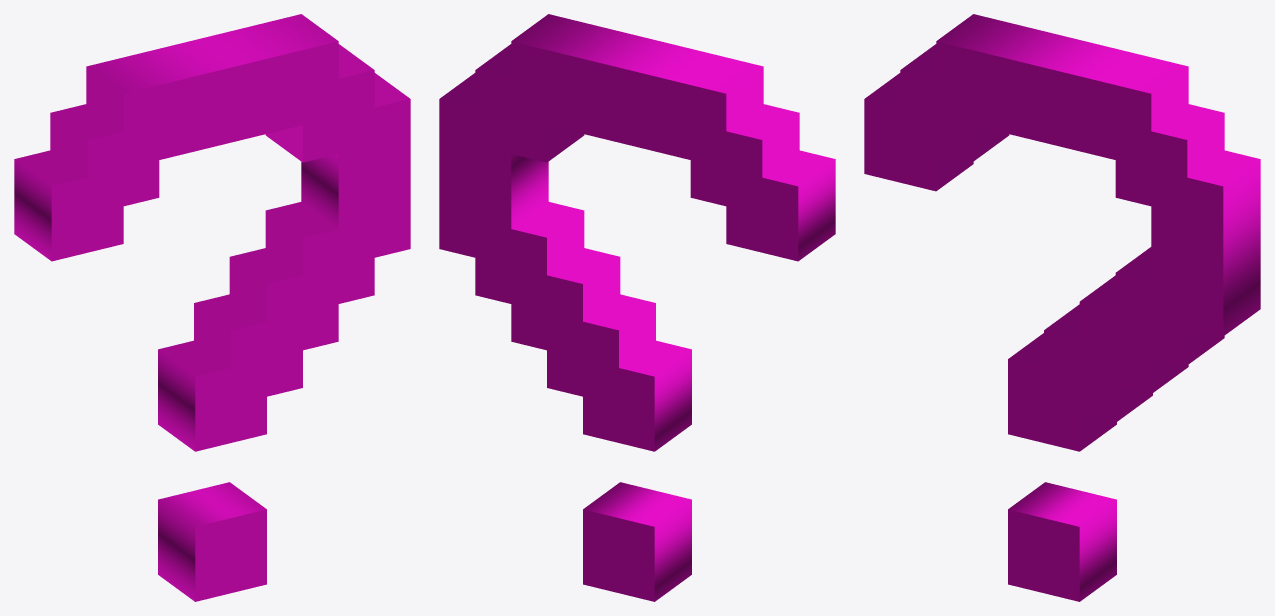
Rendered from random.fbx.
3 renders of one model, left to right at view 1: azimuth 30°, elevation 25°; view 2: azimuth 150°, elevation 25°; view 3: azimuth 330°, elevation 25°, orthographic.
Visible parts, largest first — view 1: Text; view 2: Text; view 3: Text.
Part boxes in pixels (x1,y1,x2,y2): Text: (14,14,410,601); Text: (439,14,835,601); Text: (864,14,1260,601).
Size of the model in its own units: 85.46 by 120 by 15.38.
